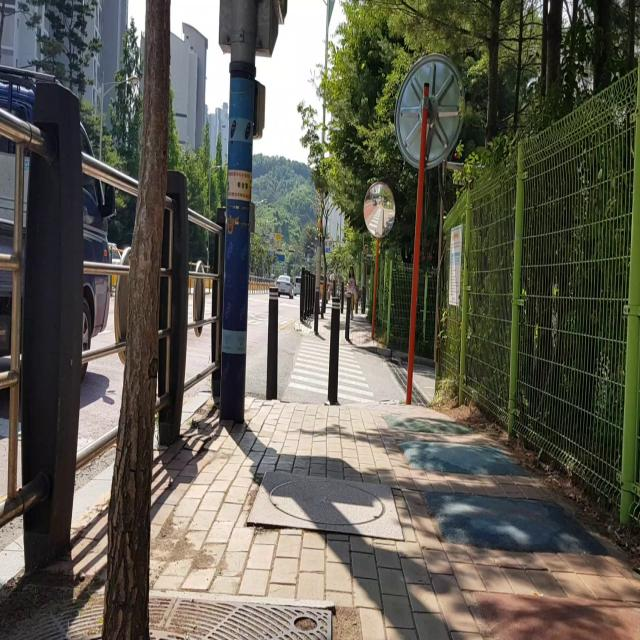횡단보도: (288, 341, 377, 405)
